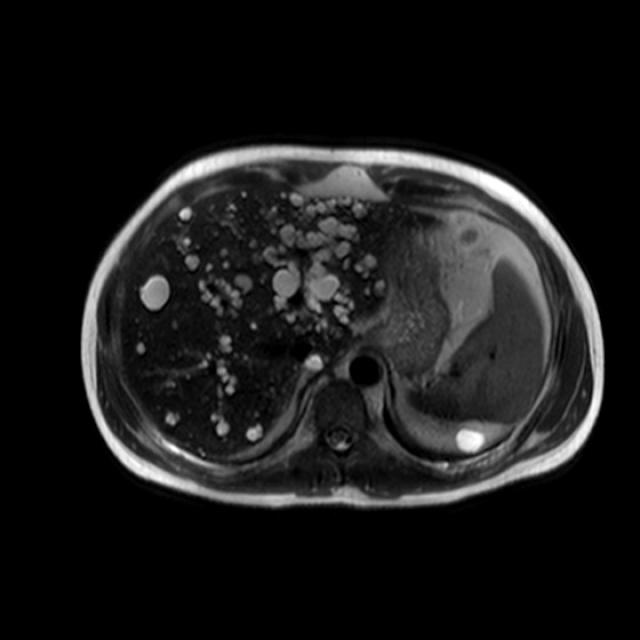sol: (458, 428, 487, 450)
